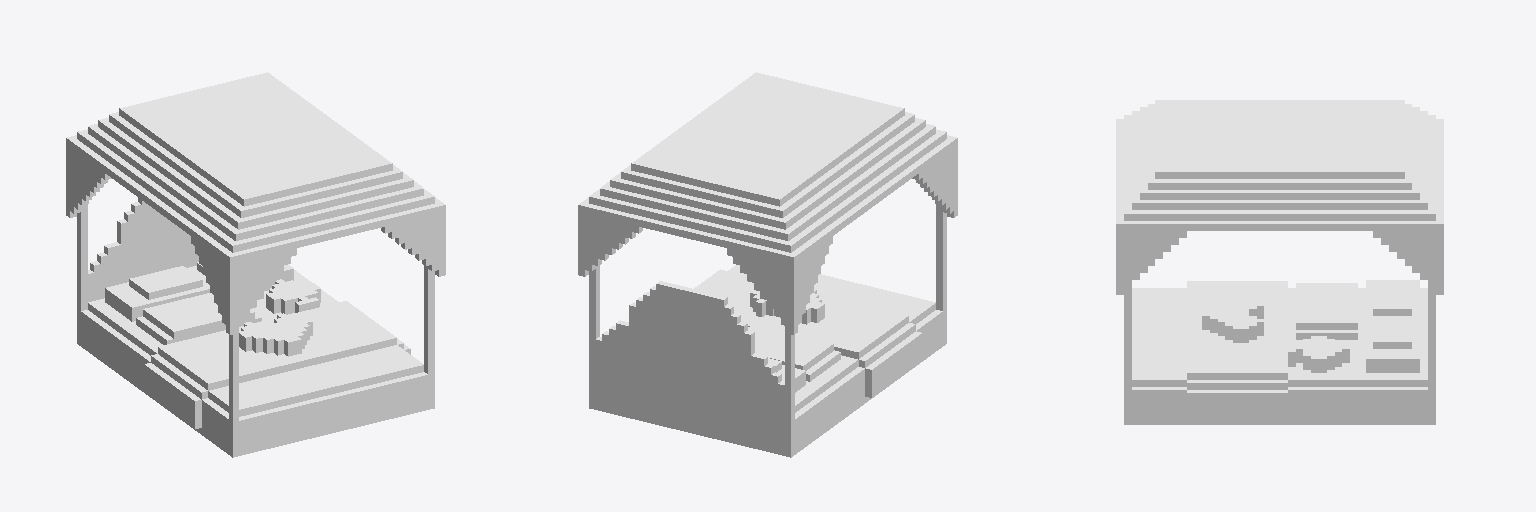
Rendered from Bed2.obj.
3 renders of one model, left to right at view 1: azimuth 30°, elevation 25°; view 2: azimuth 150°, elevation 25°; view 3: azimuth 270°, elevation 25°, orthographic.
Parts seen in each view (by area): view 1: object 1; view 2: object 1; view 3: object 1.
Boxes of the visible parts, <box> form: object 1: <box>66,72,445,457</box>; object 1: <box>578,72,957,457</box>; object 1: <box>1116,100,1443,424</box>.
Bounding box in the file's own units: 3.2 × 3.4 × 4.2.